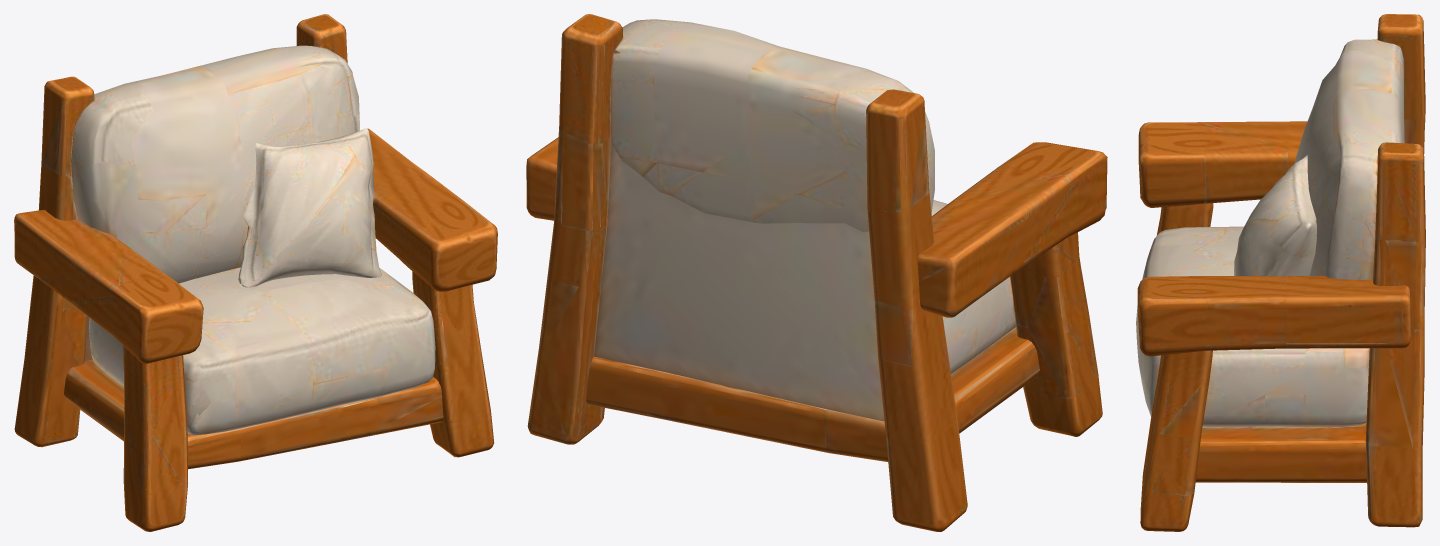
Rendered from armchair.glb.
The picture shows the model from 3 angles, left to right: view 1: azimuth 30°, elevation 25°; view 2: azimuth 150°, elevation 25°; view 3: azimuth 270°, elevation 25°; orthographic projection. The views are drawn at different scales.
Bounding box in the file's own units: 1 × 0.94 × 0.6804.
Materials: 1 (1 with a texture image).
